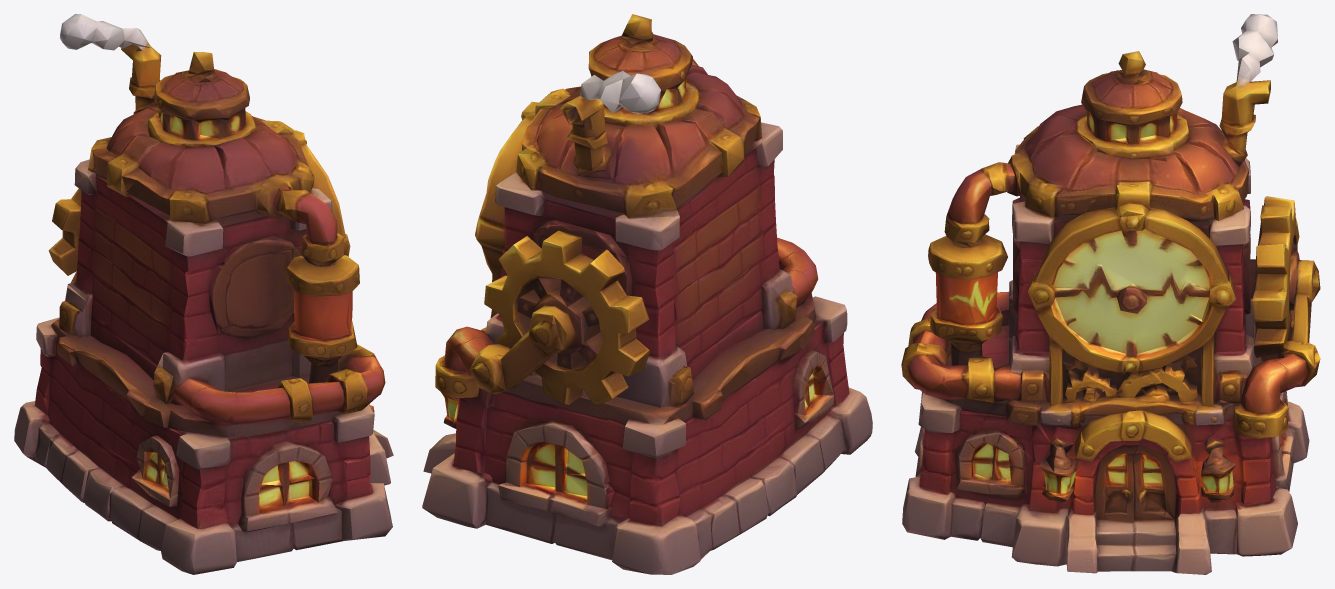
Rendered from tower.glb.
3 renders of one model, left to right at view 1: azimuth 30°, elevation 25°; view 2: azimuth 150°, elevation 25°; view 3: azimuth 270°, elevation 25°, orthographic. The views are drawn at different scales.
Parts seen in each view (by area): view 1: tripo_node_f040adad-46a9-40ff-8f4a-ae606ce3e3af; view 2: tripo_node_f040adad-46a9-40ff-8f4a-ae606ce3e3af; view 3: tripo_node_f040adad-46a9-40ff-8f4a-ae606ce3e3af.
Part boxes in pixels (x1,y1,x2,y2): tripo_node_f040adad-46a9-40ff-8f4a-ae606ce3e3af: (14, 14, 393, 574); tripo_node_f040adad-46a9-40ff-8f4a-ae606ce3e3af: (422, 14, 872, 574); tripo_node_f040adad-46a9-40ff-8f4a-ae606ce3e3af: (901, 14, 1320, 574).
Size of the model in its own units: 0.6809 by 1 by 0.8451.
1 material, 1 textured.
